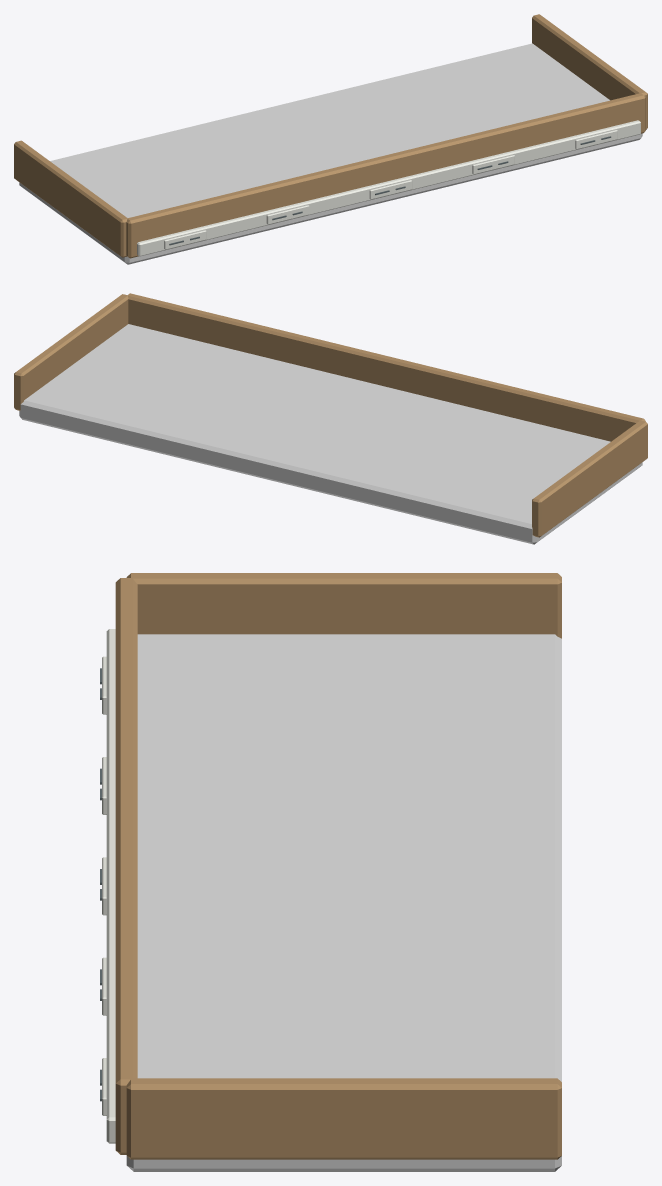
Rendered from Module_Wooden_Tray.fbx.
3 renders of one model, top to bottom at view 1: azimuth 30°, elevation 25°; view 2: azimuth 150°, elevation 25°; view 3: azimuth 270°, elevation 25°, orthographic. The views are drawn at different scales.
Visible parts, largest first — view 1: Module_Wooden_Tray__LPCXFER; view 2: Module_Wooden_Tray__LPCXFER; view 3: Module_Wooden_Tray__LPCXFER.
Boxes of the visible parts, x1=… form: Module_Wooden_Tray__LPCXFER: x1=14, y1=14, x2=647, y2=264; Module_Wooden_Tray__LPCXFER: x1=14, y1=293, x2=647, y2=544; Module_Wooden_Tray__LPCXFER: x1=100, y1=573, x2=561, y2=1171.
Size of the model in its own units: 138 by 11.75 by 52.55.
